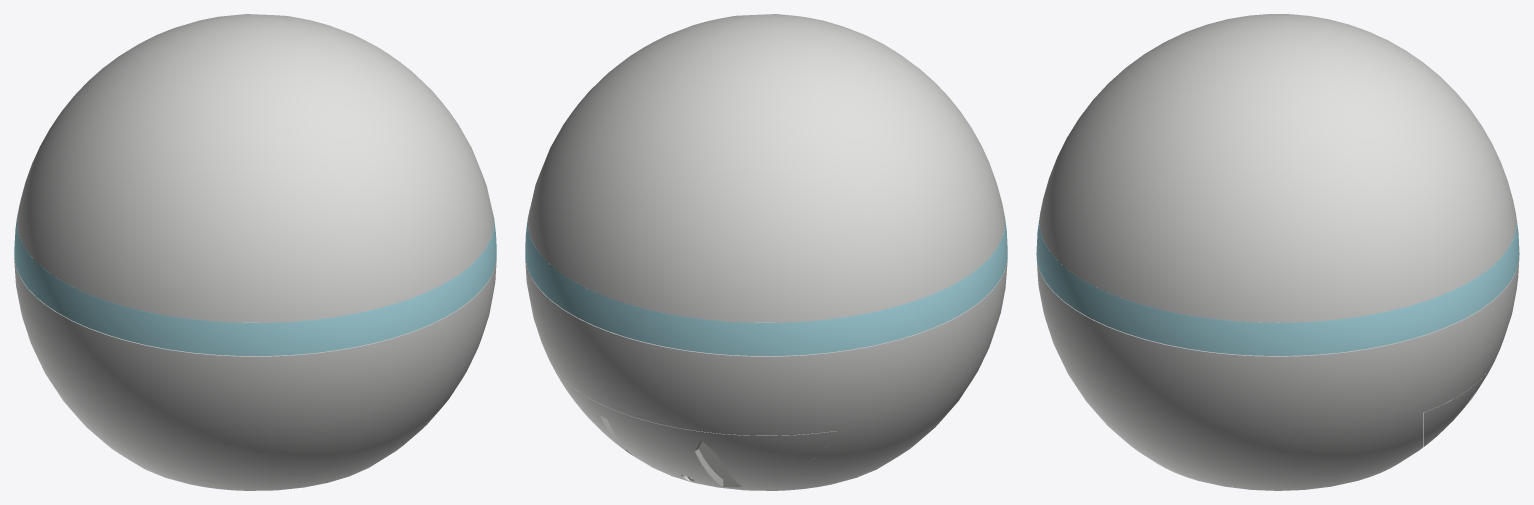
The model's file is hub.glb.
3 views of the same model, side by side, from view 1: azimuth 30°, elevation 25°; view 2: azimuth 150°, elevation 25°; view 3: azimuth 270°, elevation 25° (orthographic).
Parts seen in each view (by area): view 1: haut, bas, cerclage; view 2: haut, bas, cerclage, trappe; view 3: haut, bas, cerclage, trappe.
Boxes of the visible parts, x1,y1,x2,y2 form: haut: (17, 14, 493, 322); bas: (14, 260, 496, 490); cerclage: (14, 212, 496, 355); haut: (528, 14, 1004, 322); bas: (525, 260, 1007, 490); cerclage: (525, 209, 1007, 355); trappe: (551, 363, 837, 486); haut: (1039, 14, 1516, 322); bas: (1036, 254, 1519, 490); cerclage: (1036, 215, 1519, 355); trappe: (1423, 363, 1493, 446).
Bounding box in the file's own units: 0.15 × 0.1348 × 0.15.
